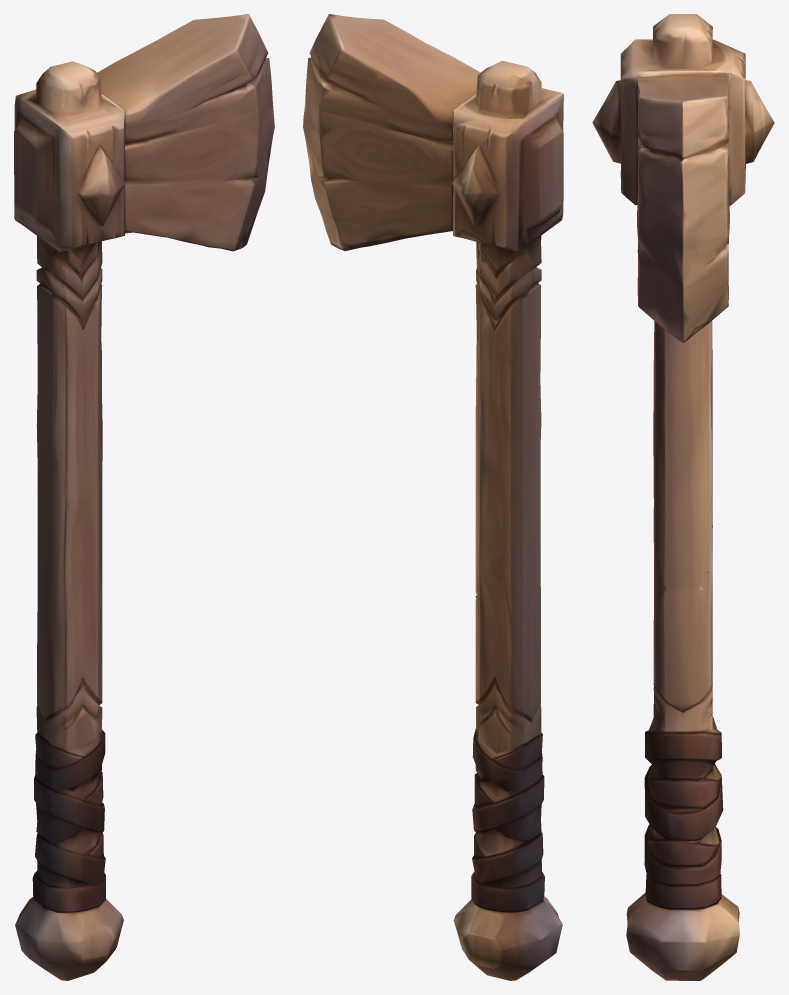
Rendered from w_wood--axe.glb.
3 views of the same model, side by side, from view 1: azimuth 30°, elevation 25°; view 2: azimuth 150°, elevation 25°; view 3: azimuth 270°, elevation 25° (orthographic). The views are drawn at different scales.
Visible parts, largest first — view 1: Weapon; view 2: Weapon; view 3: Weapon.
Boxes of the visible parts, x1,y1,x2,y2 form: Weapon: (14,14,274,980); Weapon: (303,14,563,980); Weapon: (592,14,774,980).
Bounding box in the file's own units: 0.2797 × 0.9786 × 0.168.
Materials: 1 (1 with a texture image).
